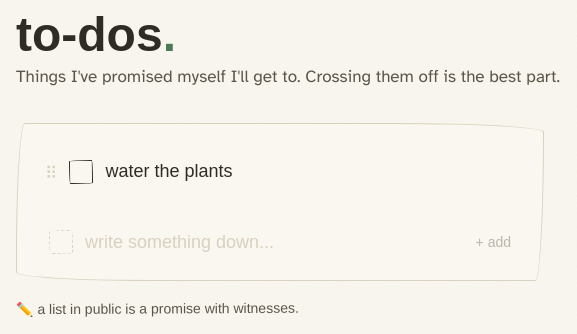
TodoList › lets the admin rename an item in place
Click the button "water the plants": (169, 171) [106,161,233,181]
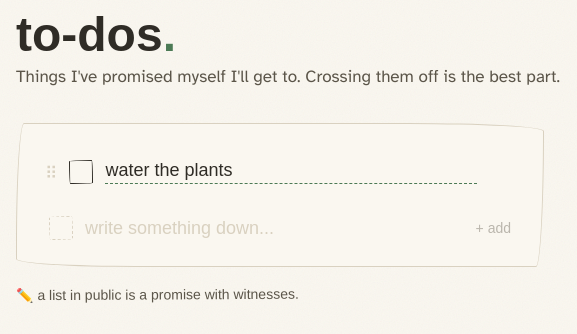
Replace the text in the field named "edit \"water the plants\"" with "water the cactus": (291, 171) [106,158,477,184]
Then press Enter
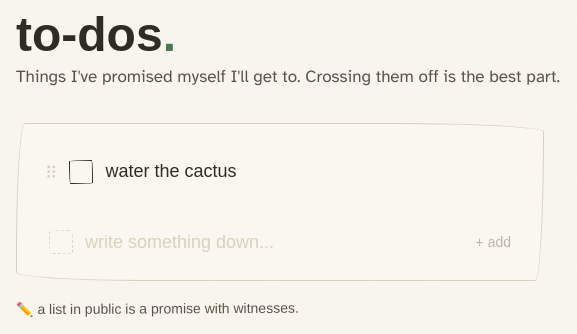
Check: the button "water the cactus" is shown, box [106,161,237,181]
